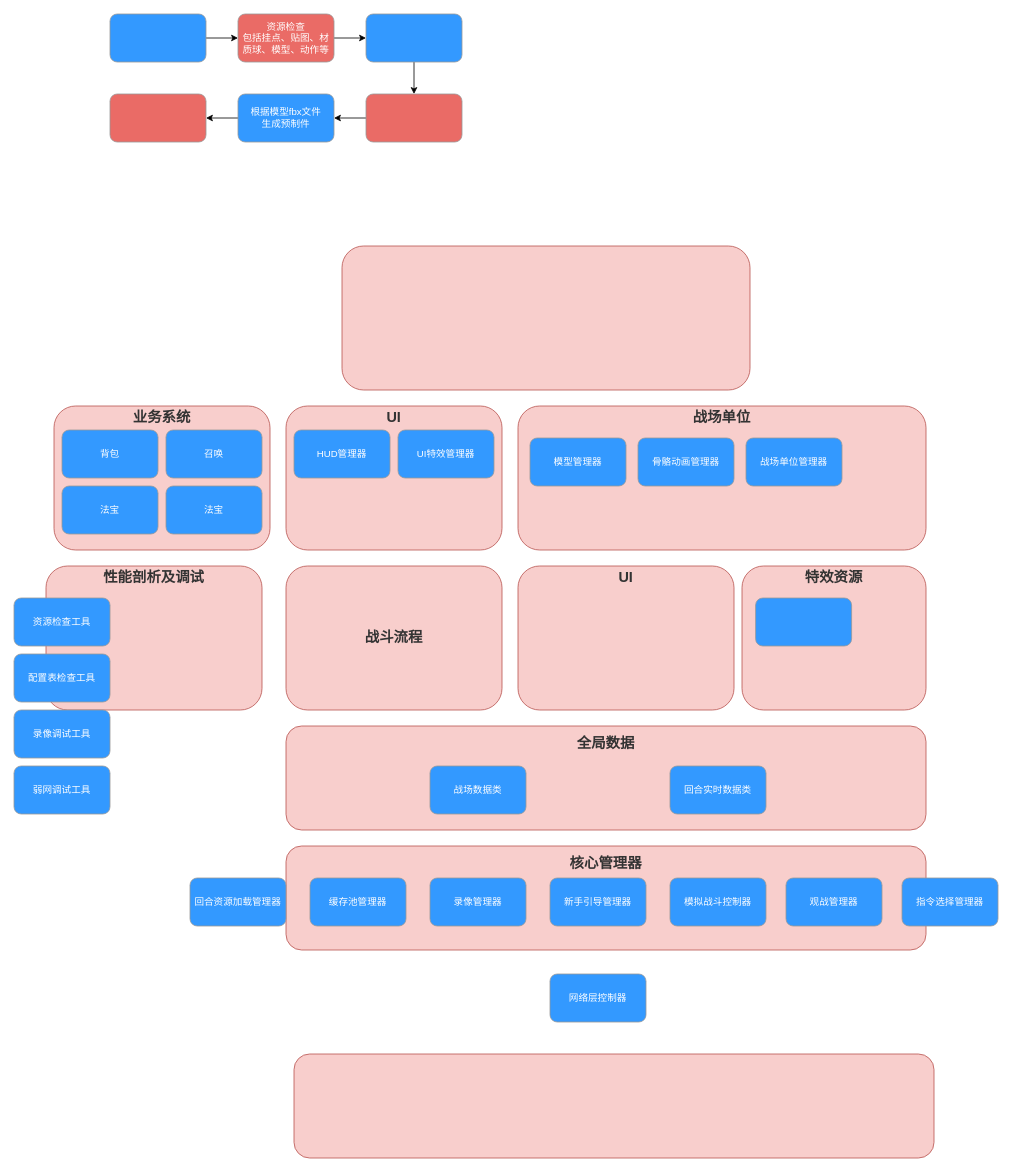
Image size: 1012x1172. Some labels were removed from this diagram. The shapes that lost their labels are listed below. From the top down, each one's centre as x and y in pixels, then its label:
(x=157, y=37): 美术按角色高低模 分文件夹提交资源
(x=413, y=37): 继承动画机基类 生成角色动画机
(x=157, y=117): 预制件 生成包围盒 挂载动作配置表 挂载动画控制器
(x=413, y=117): 遍历动作fbx文件 生成动作配置表
(x=545, y=317): 战斗表演
(x=803, y=621): 特效托管管理器
(x=613, y=1105): 第三方类库
